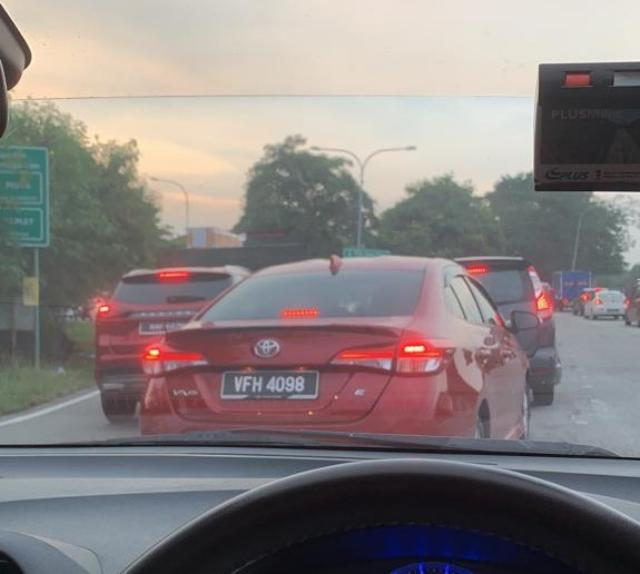License_Plate: (231, 370, 317, 399)
car: (136, 249, 538, 449), (97, 246, 238, 406)
